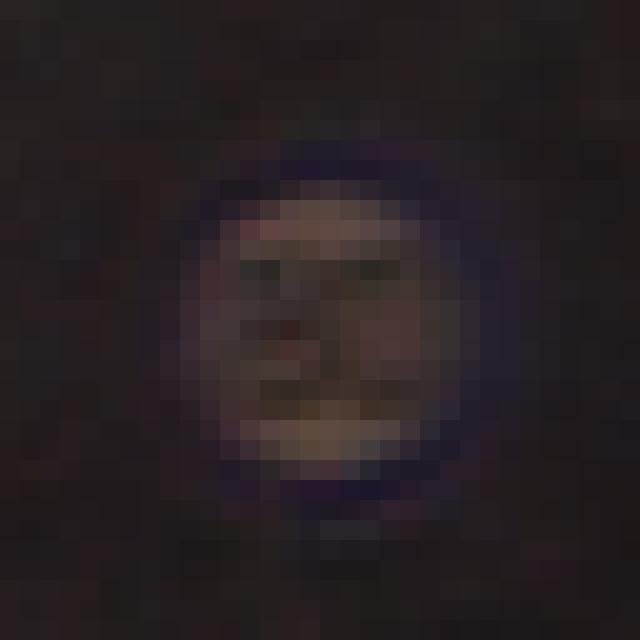SPEED-LIMIT-80: (137, 149, 537, 531)
